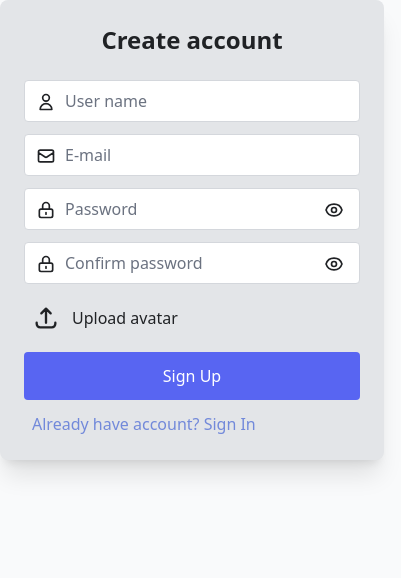
Test: SignUpForm validation › Should display error message if email is invalid
This screenshot has width=401, height=578.
Type "demo" into the field named "email-input" at coordinates (192, 155), box [24,134,360,176]
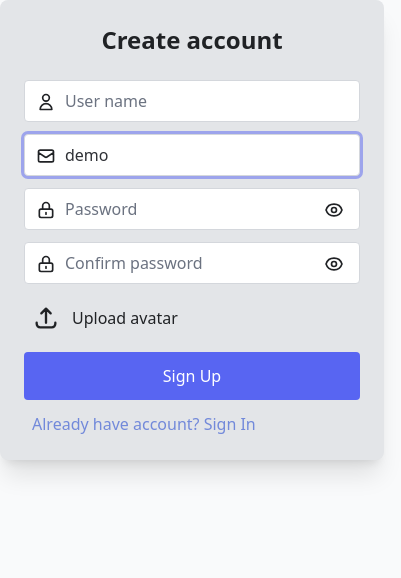
Click the button with aria-label "sign-up-button" at coordinates (192, 376), box [24,352,360,400]
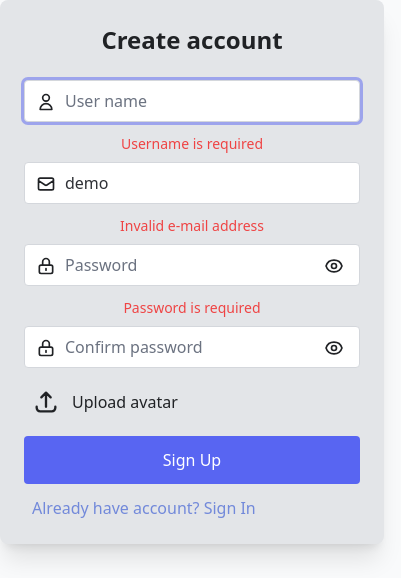
Expected: the text "Invalid e-mail address" is shown, [120,216,264,235]
